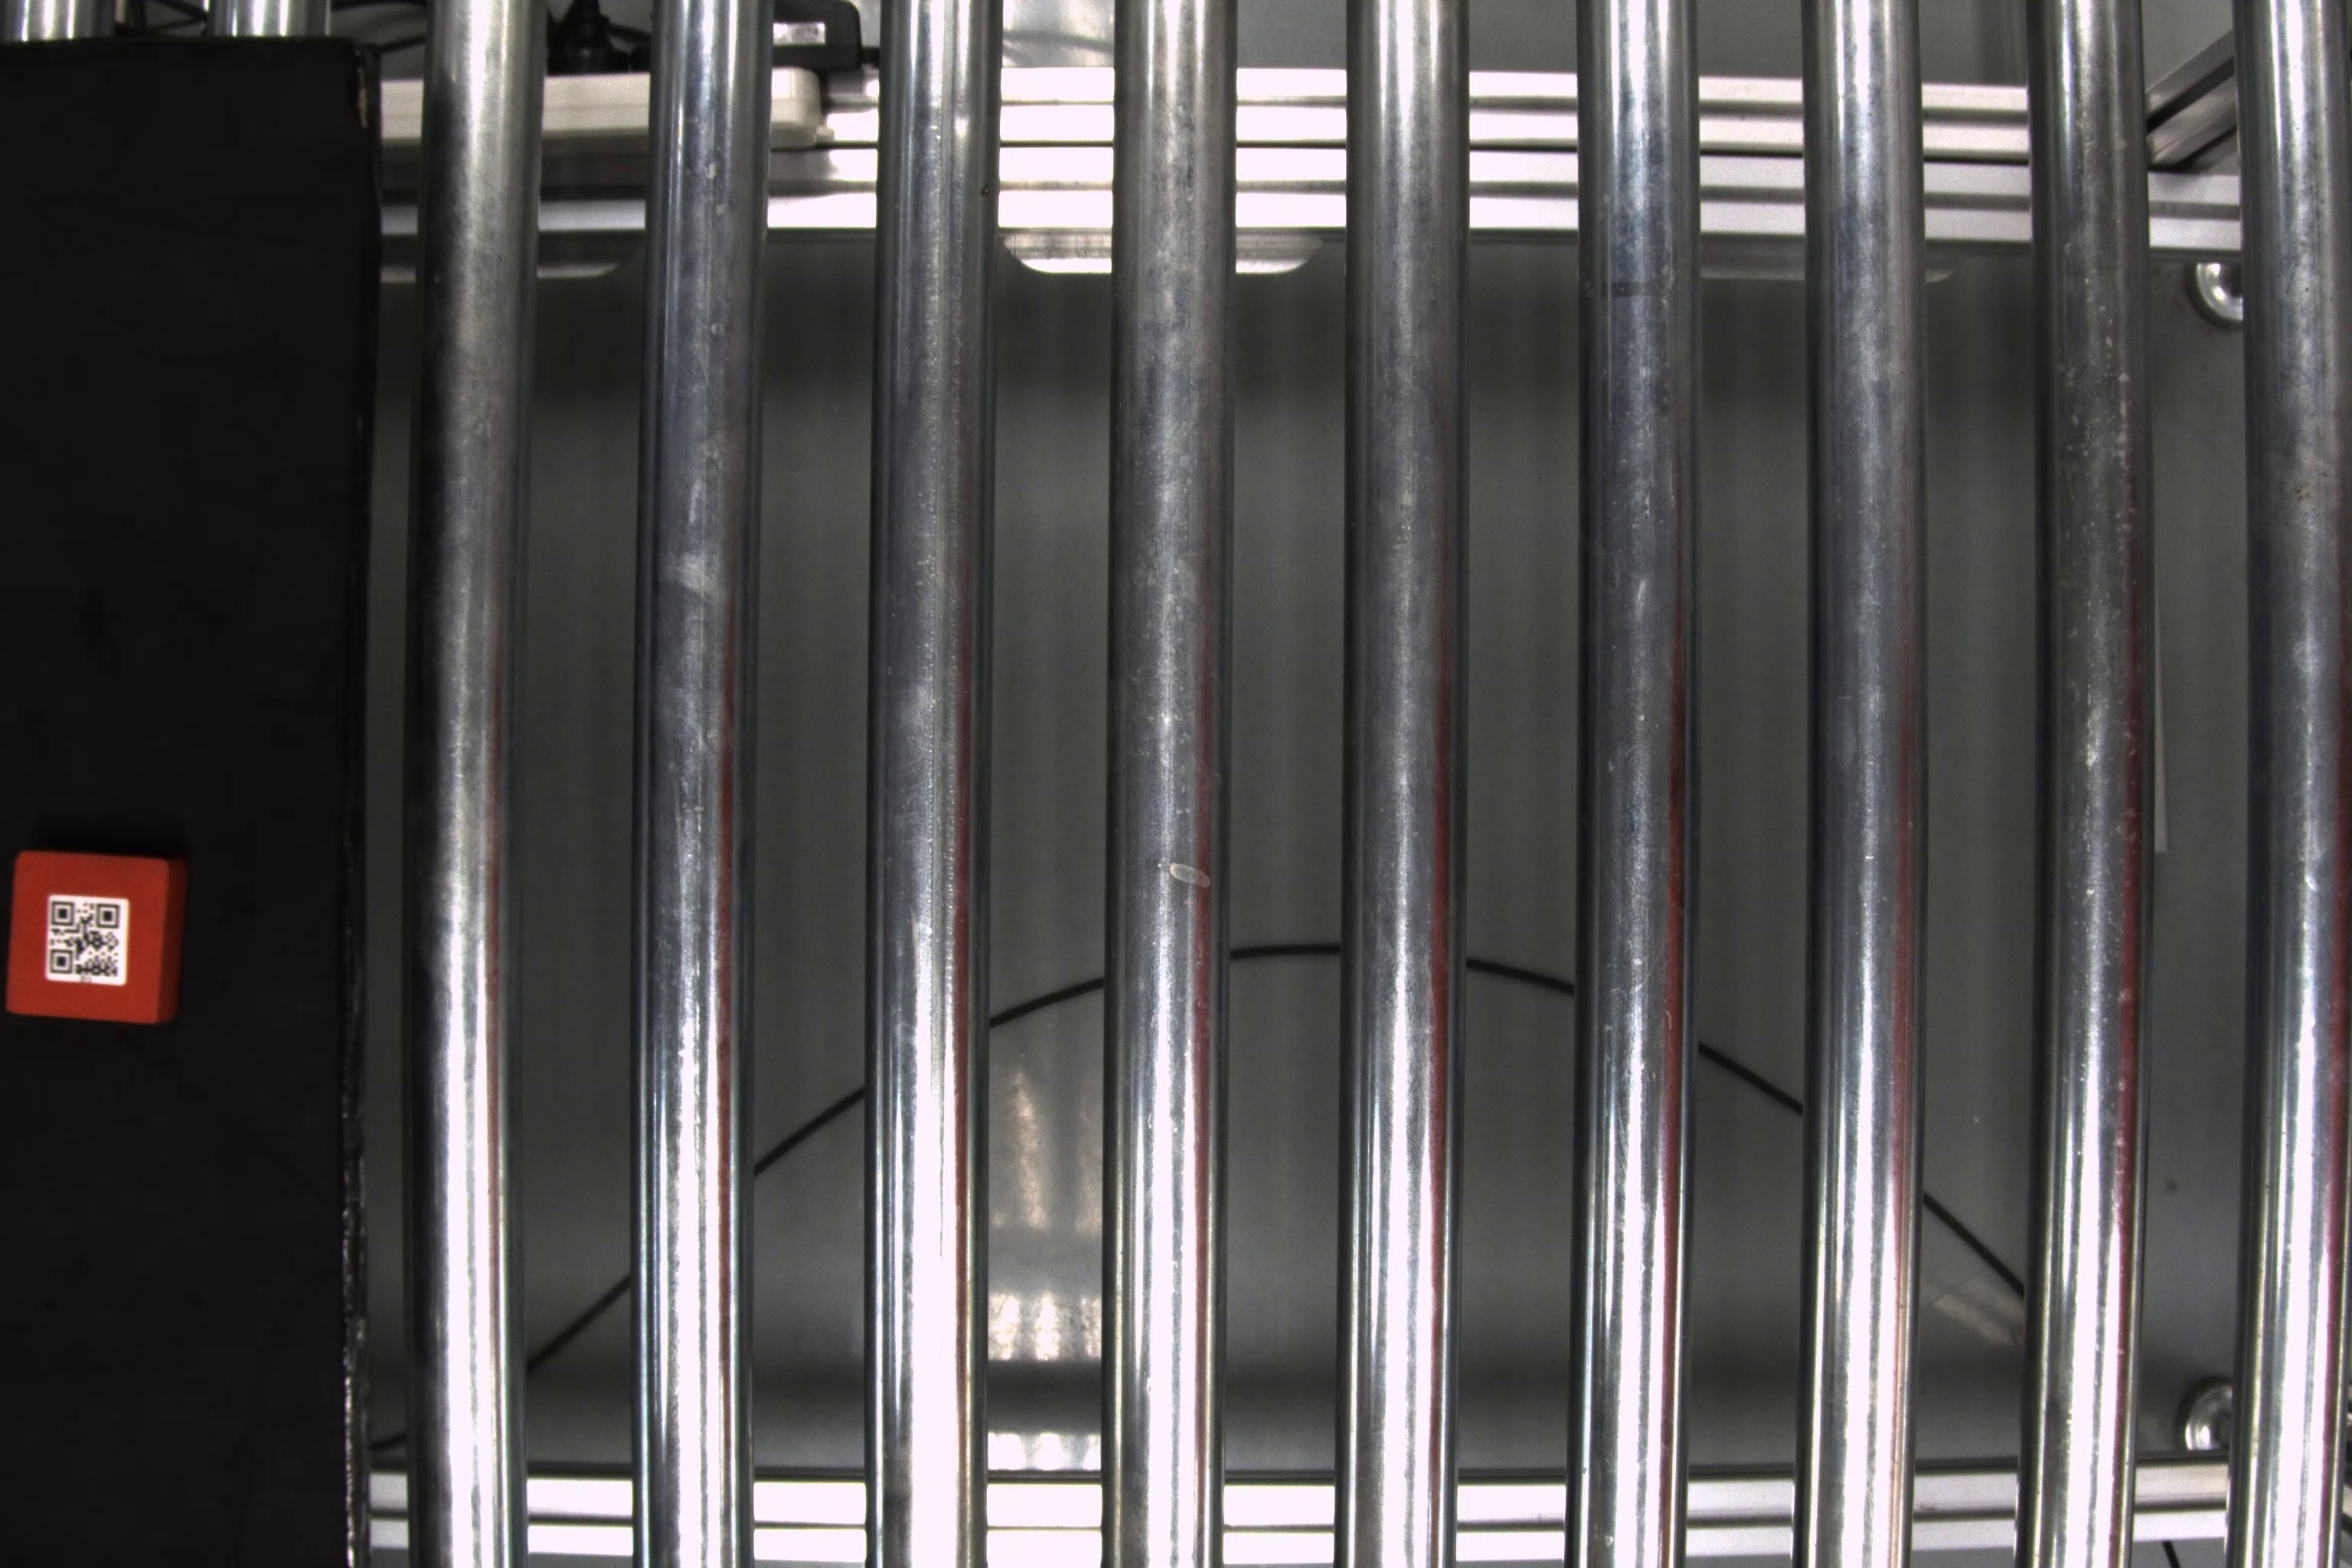wood: (3, 850, 196, 1027)
